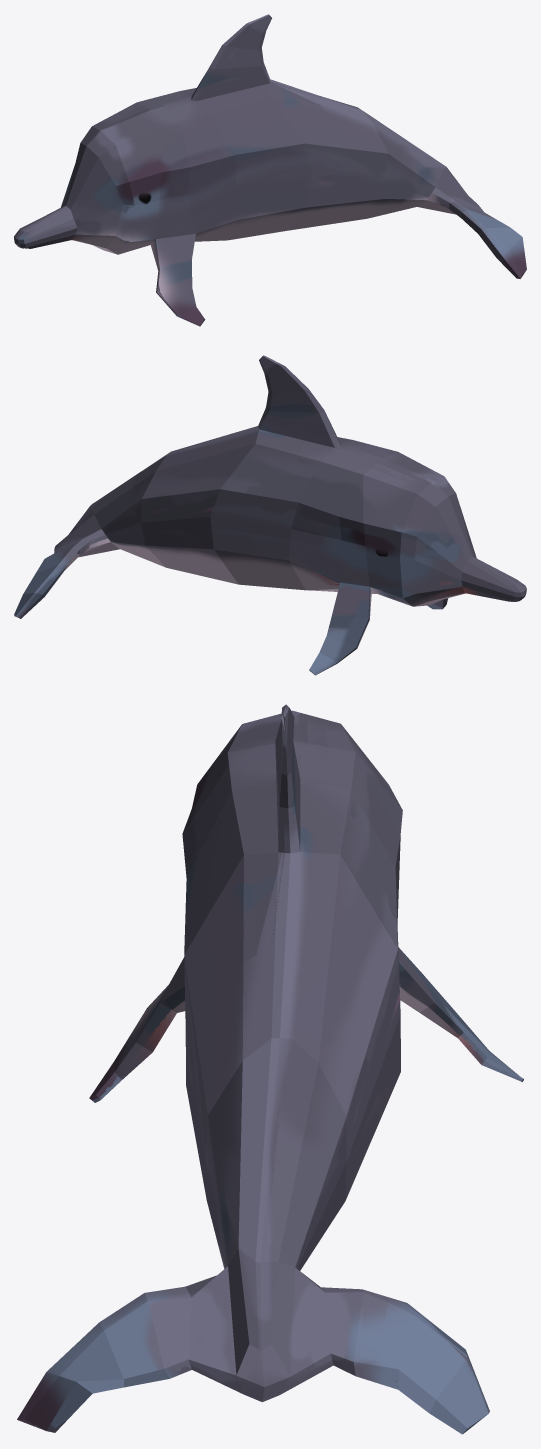
File: dolphin.glb
The picture shows the model from 3 angles, top to bottom: view 1: azimuth 30°, elevation 25°; view 2: azimuth 150°, elevation 25°; view 3: azimuth 270°, elevation 25°; orthographic projection. The views are drawn at different scales.
Visible parts, largest first — view 1: cubeGolfinho; view 2: cubeGolfinho; view 3: cubeGolfinho.
Boxes of the visible parts, box(x1,y1,x2,y2) form: cubeGolfinho: box(14, 14, 526, 326); cubeGolfinho: box(14, 355, 526, 675); cubeGolfinho: box(17, 704, 523, 1434).
Size of the model in its own units: 4.49 by 2.48 by 2.15.
Materials: 1 (1 with a texture image).
